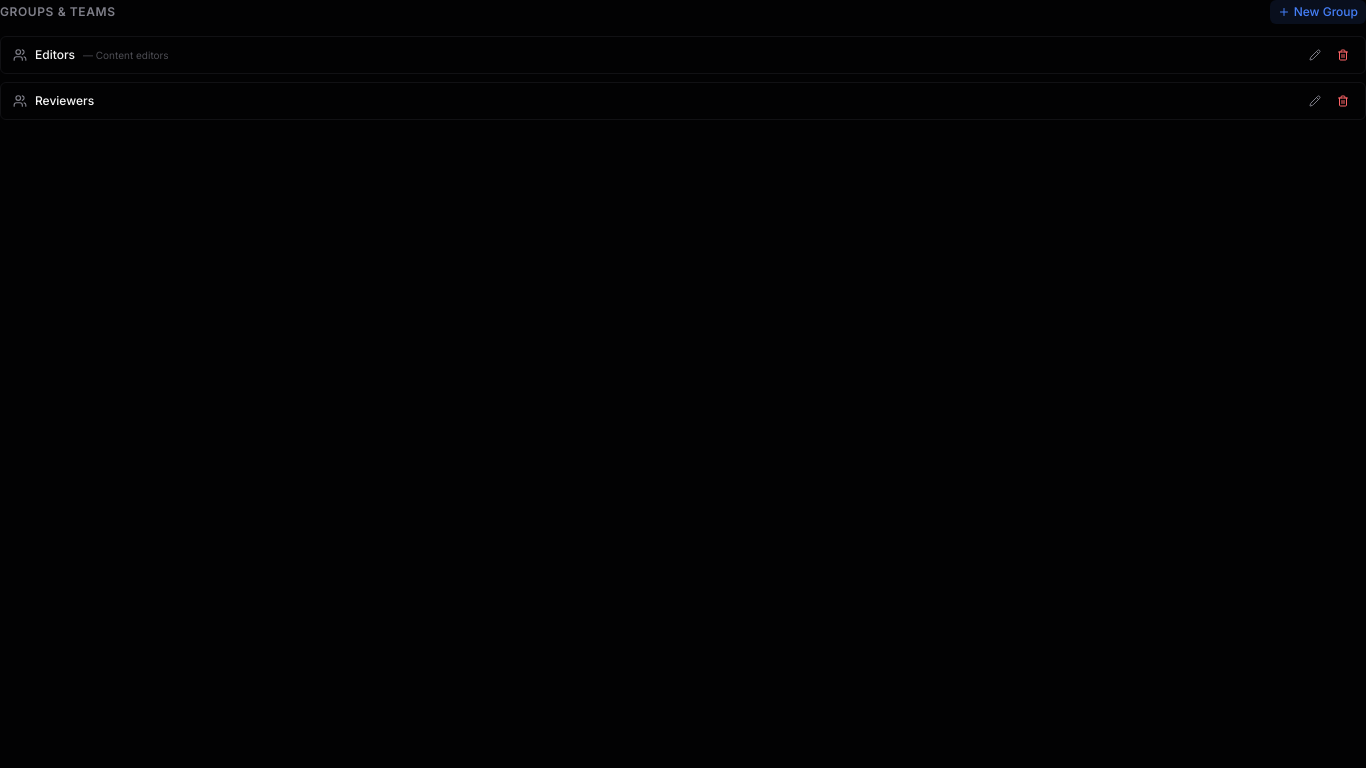
Test: GroupsPanel › opens create dialog when New Group is clicked
Check: the text "Editors" is shown, box x1=35 y1=47 x2=75 y2=63
Click the button "New Group" at (1318, 12), box x1=1270 y1=0 x2=1365 y2=24
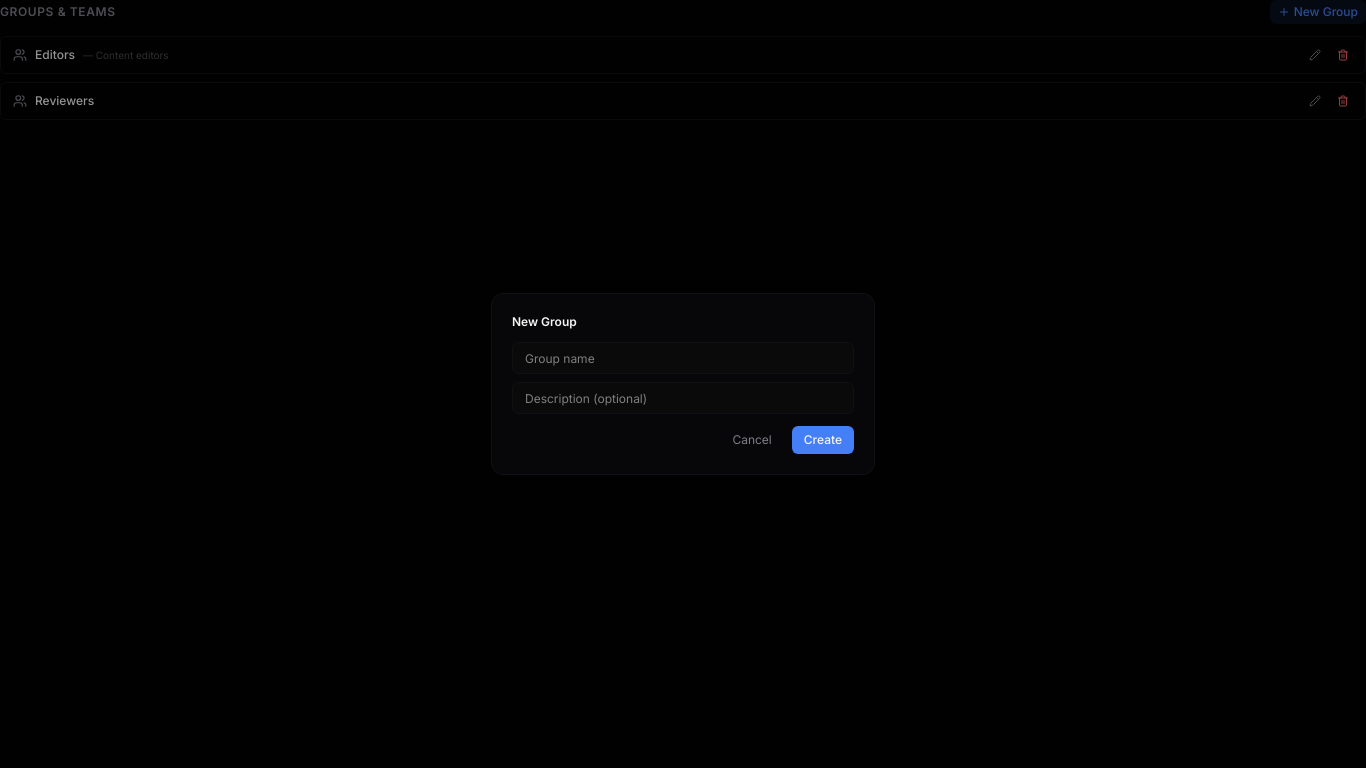
Check: the field with placeholder "Group name" is shown, box x1=512 y1=342 x2=854 y2=374
Check: the field with placeholder "Description (optional)" is shown, box x1=512 y1=382 x2=854 y2=414
